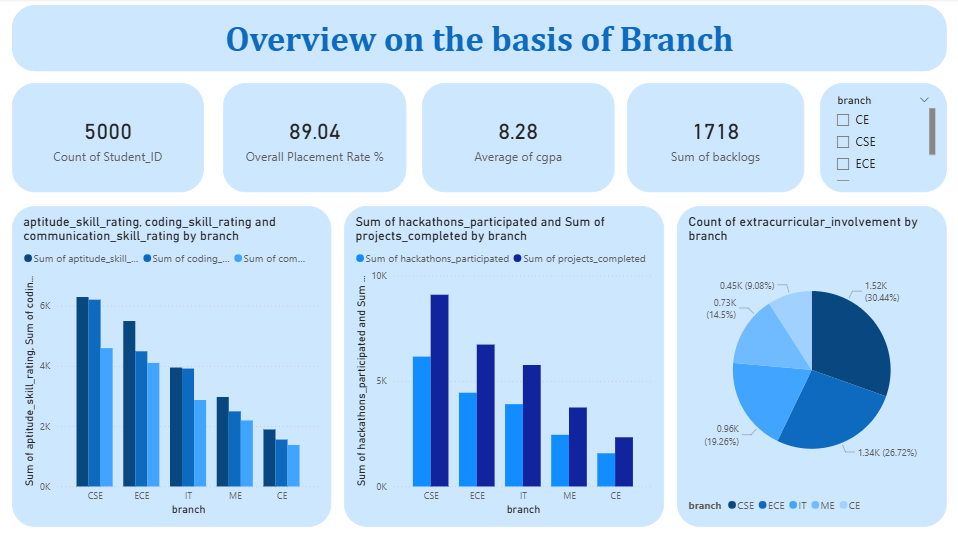

The dashboard page shown, as its layout file describes it:
{"tool":"powerbi","page":{"name":"Branch","canvas":[1280,720],"ordinal":0},"visuals":[{"type":"card","fields":{"Values":["CountNonNull(indian_engineering_student_plac.Student_ID)"]},"box":[27.4,110.9,250.6,142.6],"z":0},{"type":"card","fields":{"Values":["indian_engineering_student_plac.Overall Placement Rate %"]},"box":[303.8,110.9,240.5,142.6],"z":1000},{"type":"card","fields":{"Values":["Avg(indian_engineering_student_plac.cgpa)"]},"box":[564.5,110.9,252,142.6],"z":2000},{"type":"card","fields":{"Values":["Sum(indian_engineering_student_plac.backlogs)"]},"box":[832.3,110.9,231.8,142.6],"z":3000},{"type":"clusteredColumnChart","title":"aptitude_skill_rating, coding_skill_rating and communication_skill_rating by branch","fields":{"Category":["indian_engineering_student_plac.branch"],"Y":["Sum(indian_engineering_student_plac.aptitude_skill_rating)","Sum(indian_engineering_student_plac.coding_skill_rating)","Sum(indian_engineering_student_plac.communication_skill_rating)"]},"box":[27.4,272.2,417.6,420.5],"z":4000},{"type":"slicer","fields":{"Values":["indian_engineering_student_plac.branch"]},"box":[1085.8,110.9,165.6,142.6],"z":5000},{"type":"clusteredColumnChart","fields":{"Category":["indian_engineering_student_plac.branch"],"Y":["Sum(indian_engineering_student_plac.hackathons_participated)","Sum(indian_engineering_student_plac.projects_completed)"]},"box":[462.2,272.2,419,420.5],"z":6000},{"type":"pieChart","fields":{"Y":["CountNonNull(indian_engineering_student_plac.extracurricular_involvement)"],"Category":["indian_engineering_student_plac.branch"]},"box":[898.6,272.2,352.8,420.5],"z":7000},{"type":"shape","box":[27.5,9.6,1223.6,86.7],"z":8000}]}

Visuals, with their boxes in screenshot pixels (x1, y1, x2, y2), scaled from the page's 1280x720 canvas onto the 958x534 screenshot:
card - CountNonNull(indian_engineering_student_plac.Student_ID): box=[21, 82, 208, 188]
card - indian_engineering_student_plac.Overall Placement Rate %: box=[227, 82, 407, 188]
card - Avg(indian_engineering_student_plac.cgpa): box=[422, 82, 611, 188]
card - Sum(indian_engineering_student_plac.backlogs): box=[623, 82, 796, 188]
"aptitude_skill_rating, coding_skill_rating and communication_skill_rating by branch" clusteredColumnChart: box=[21, 202, 333, 514]
slicer - indian_engineering_student_plac.branch: box=[813, 82, 937, 188]
clusteredColumnChart - indian_engineering_student_plac.branch x Sum(indian_engineering_student_plac.hackathons_participated): box=[346, 202, 660, 514]
pieChart - CountNonNull(indian_engineering_student_plac.extracurricular_involvement) x indian_engineering_student_plac.branch: box=[673, 202, 937, 514]
shape: box=[21, 7, 936, 71]
